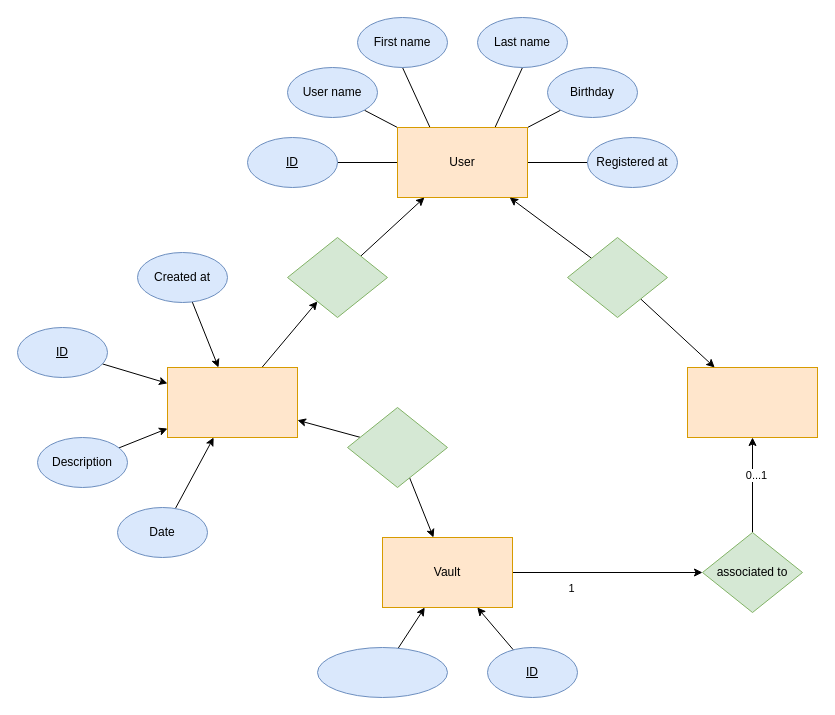
This 835x715 diagram has some shape labels left out. The centre of each missing label's shape, as x and y in pixels:
"bundled in" goes at (x=397, y=447).
"CollectionPeriodEnd" goes at (x=382, y=672).
"creates" goes at (x=337, y=277).
"Family" goes at (x=752, y=402).
"Member of" goes at (x=617, y=277).
"Memory" goes at (x=232, y=402).
